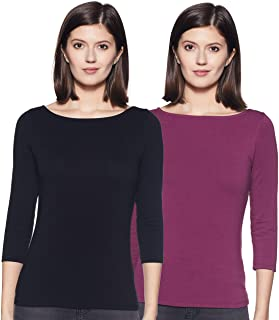tshirt: (1, 100, 170, 312)
